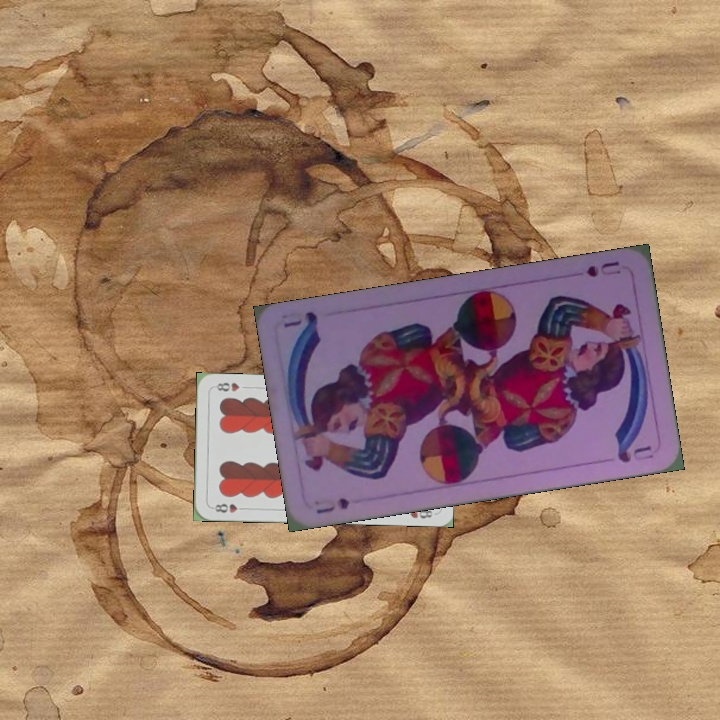H8: (208, 500, 249, 515)
SU: (581, 257, 624, 280), (312, 493, 352, 517)
